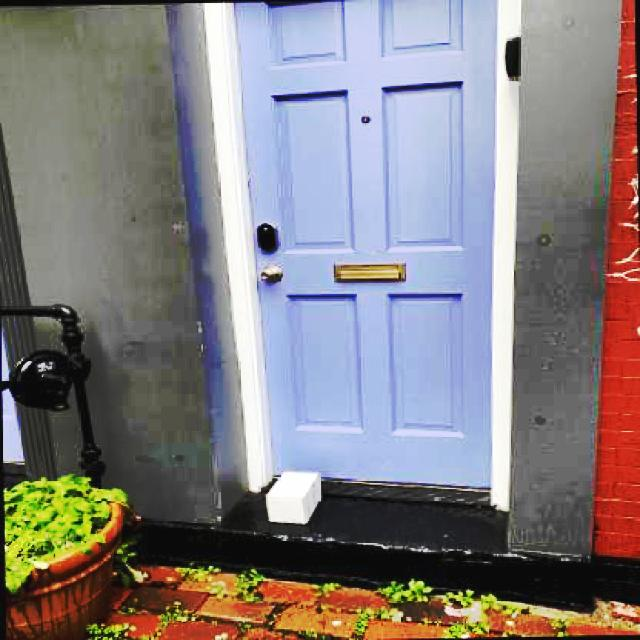Box: (260, 468, 328, 527)
